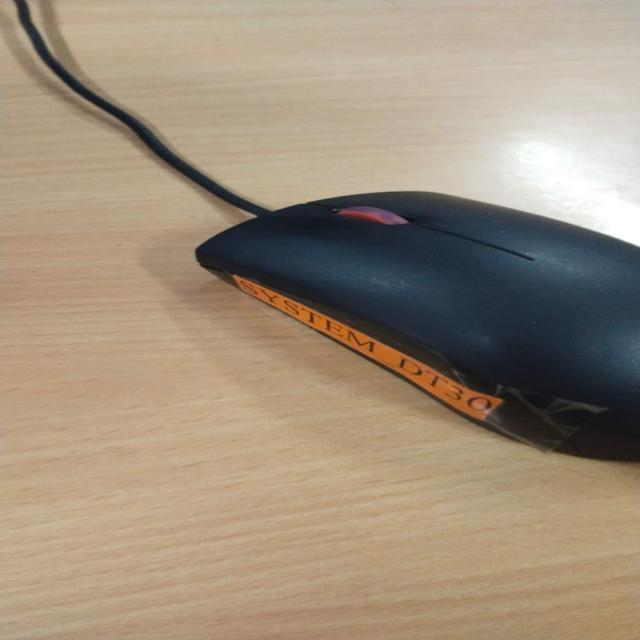Mouse: (210, 135, 620, 501)
